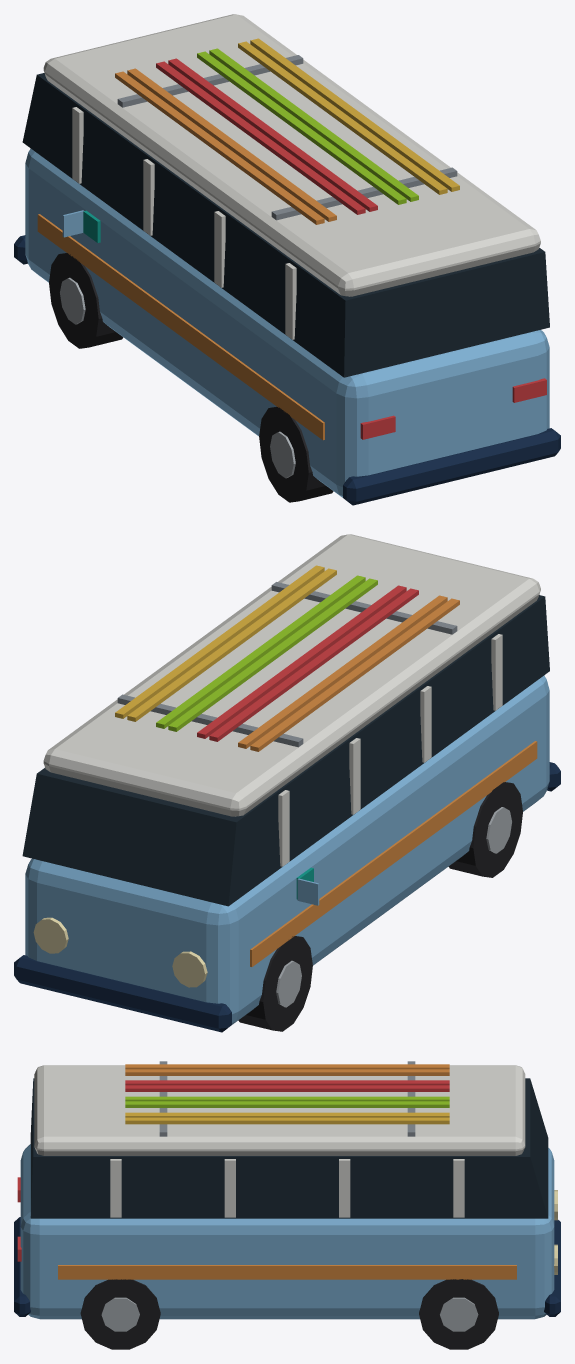
File: ski_bus.glb
3 renders of one model, top to bottom at view 1: azimuth 30°, elevation 25°; view 2: azimuth 150°, elevation 25°; view 3: azimuth 270°, elevation 25°, orthographic. The views are drawn at different scales.
Parts seen in each view (by area): view 1: ski_bus; view 2: ski_bus; view 3: ski_bus.
Boxes of the visible parts, x1,y1,x2,y2 form: ski_bus: [14, 14, 560, 505]; ski_bus: [14, 534, 560, 1032]; ski_bus: [14, 1061, 560, 1349].
Size of the model in its own units: 2.31 by 2.49 by 5.74.
